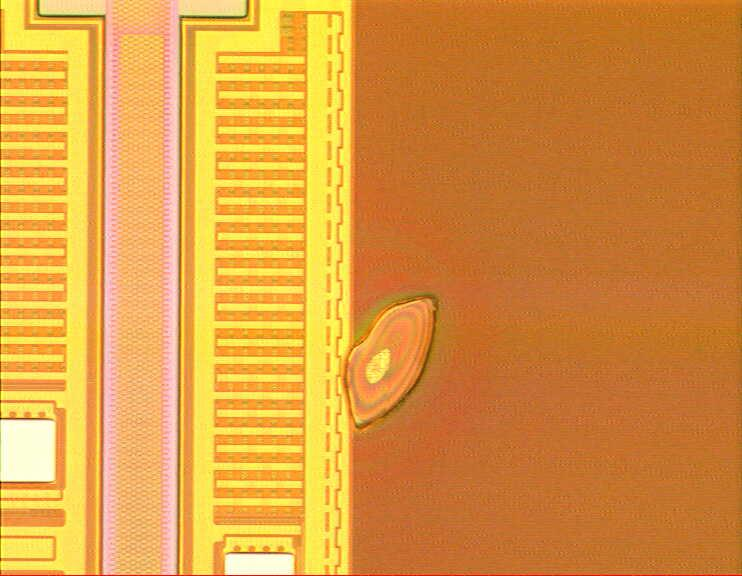PIQ PARTICLE: (337, 290, 450, 448)
